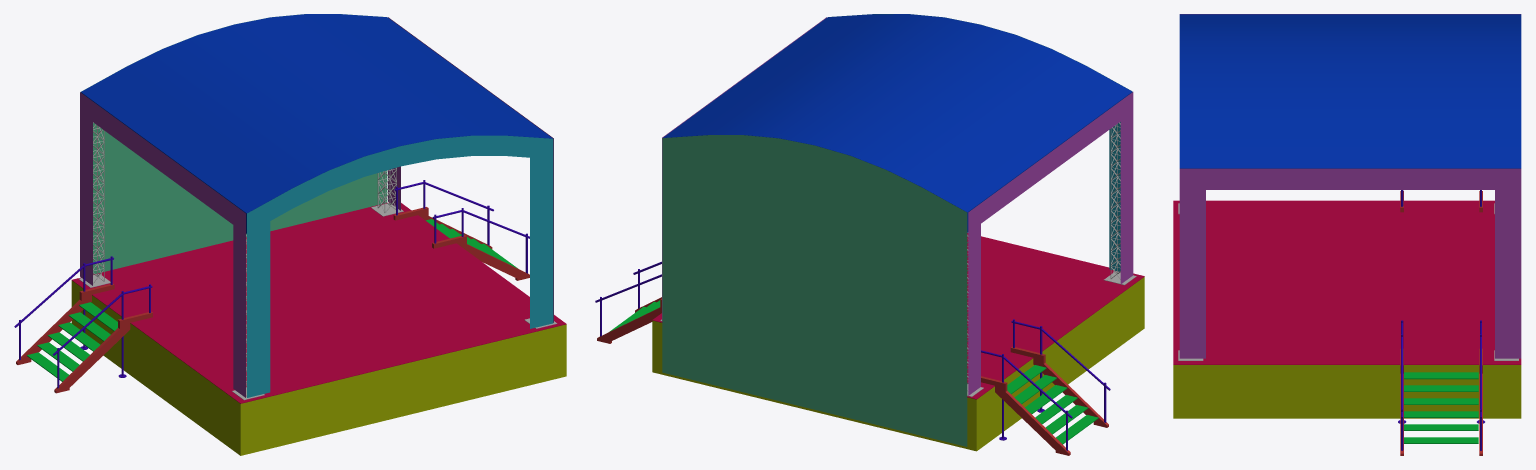
The model's file is stage_1.fbx.
The picture shows the model from 3 angles, left to right: view 1: azimuth 30°, elevation 25°; view 2: azimuth 150°, elevation 25°; view 3: azimuth 270°, elevation 25°; orthographic projection. The views are drawn at different scales.
Parts seen in each view (by area): view 1: Roof_cover, Floor_cover, Base_cover, Back_cover, Front_cover, Sides_cover, support_r (×2), truss1, support_l, truss2; view 2: Back_cover, Roof_cover, Floor_cover, Base_cover, Sides_cover, support_l (×2), Front_cover, truss, support_r; view 3: Roof_cover, Floor_cover, Sides_cover, Base_cover, step6, step5, step4, step3, step2, step.
Boxes of the visible parts, left/top/right/bottom form: Roof_cover: left=81, top=14, right=552, bottom=233; Floor_cover: left=72, top=202, right=566, bottom=403; Base_cover: left=71, top=280, right=566, bottom=455; Back_cover: left=80, top=14, right=387, bottom=274; Front_cover: left=247, top=135, right=553, bottom=397; Sides_cover: left=80, top=17, right=553, bottom=397; support_r (×2): left=54, top=235, right=529, bottom=393; truss1: left=79, top=122, right=110, bottom=287; support_l: left=16, top=283, right=114, bottom=364; truss2: left=371, top=167, right=403, bottom=216; Back_cover: left=662, top=135, right=967, bottom=446; Roof_cover: left=663, top=14, right=1132, bottom=232; Floor_cover: left=652, top=233, right=1144, bottom=399; Base_cover: left=652, top=277, right=1144, bottom=451; Sides_cover: left=662, top=17, right=1133, bottom=395; support_l (×2): left=597, top=298, right=1070, bottom=455; Front_cover: left=828, top=14, right=1132, bottom=271; truss: left=1104, top=122, right=1136, bottom=285; support_r: left=1010, top=346, right=1108, bottom=427; Roof_cover: left=1179, top=14, right=1521, bottom=168; Floor_cover: left=1173, top=200, right=1521, bottom=364; Sides_cover: left=1179, top=14, right=1521, bottom=358; Base_cover: left=1173, top=365, right=1521, bottom=418; step6: left=1404, top=372, right=1478, bottom=379; step5: left=1404, top=385, right=1478, bottom=391; step4: left=1404, top=398, right=1478, bottom=404; step3: left=1404, top=411, right=1478, bottom=417; step2: left=1404, top=424, right=1478, bottom=430; step: left=1404, top=437, right=1478, bottom=443.
Size of the model in its own units: 11.47 by 6.13 by 7.01.
